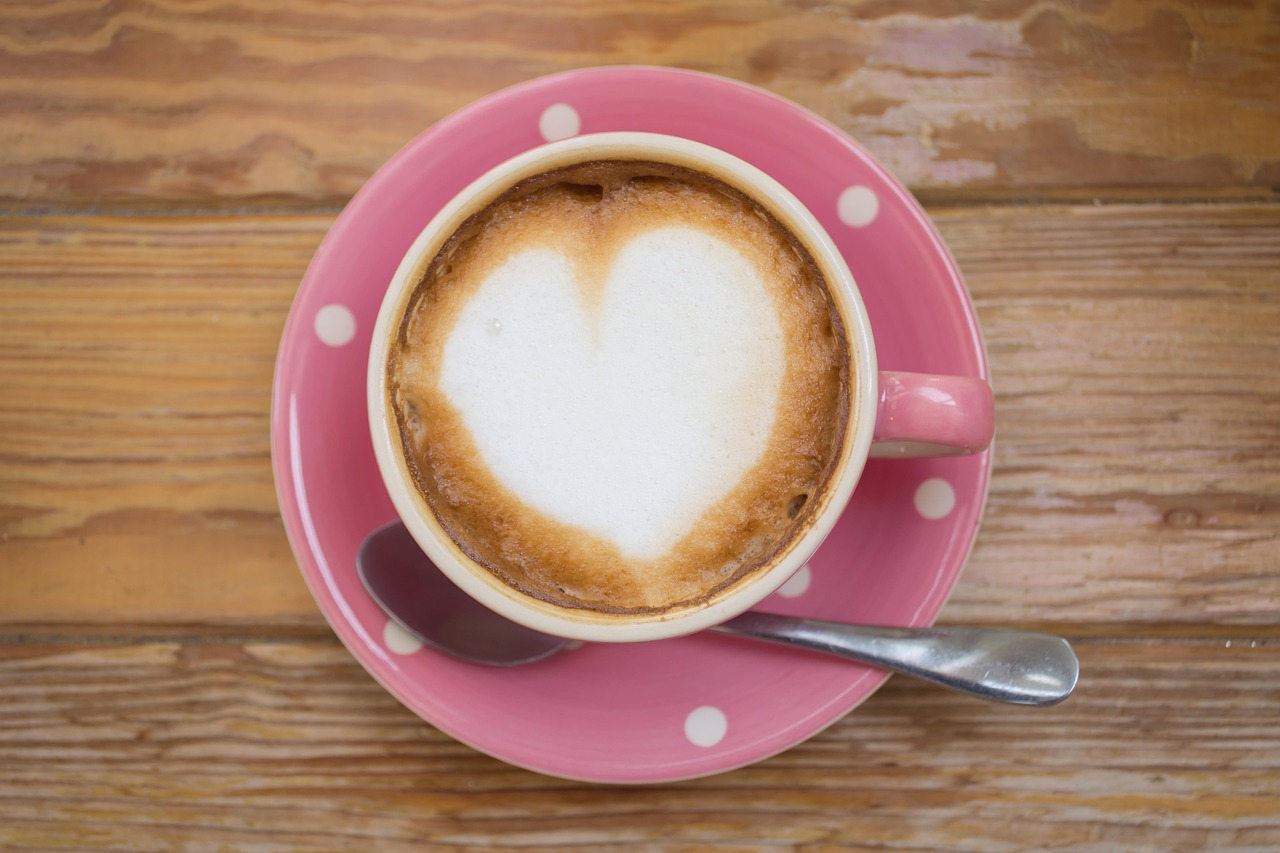mug: (351, 125, 992, 688)
